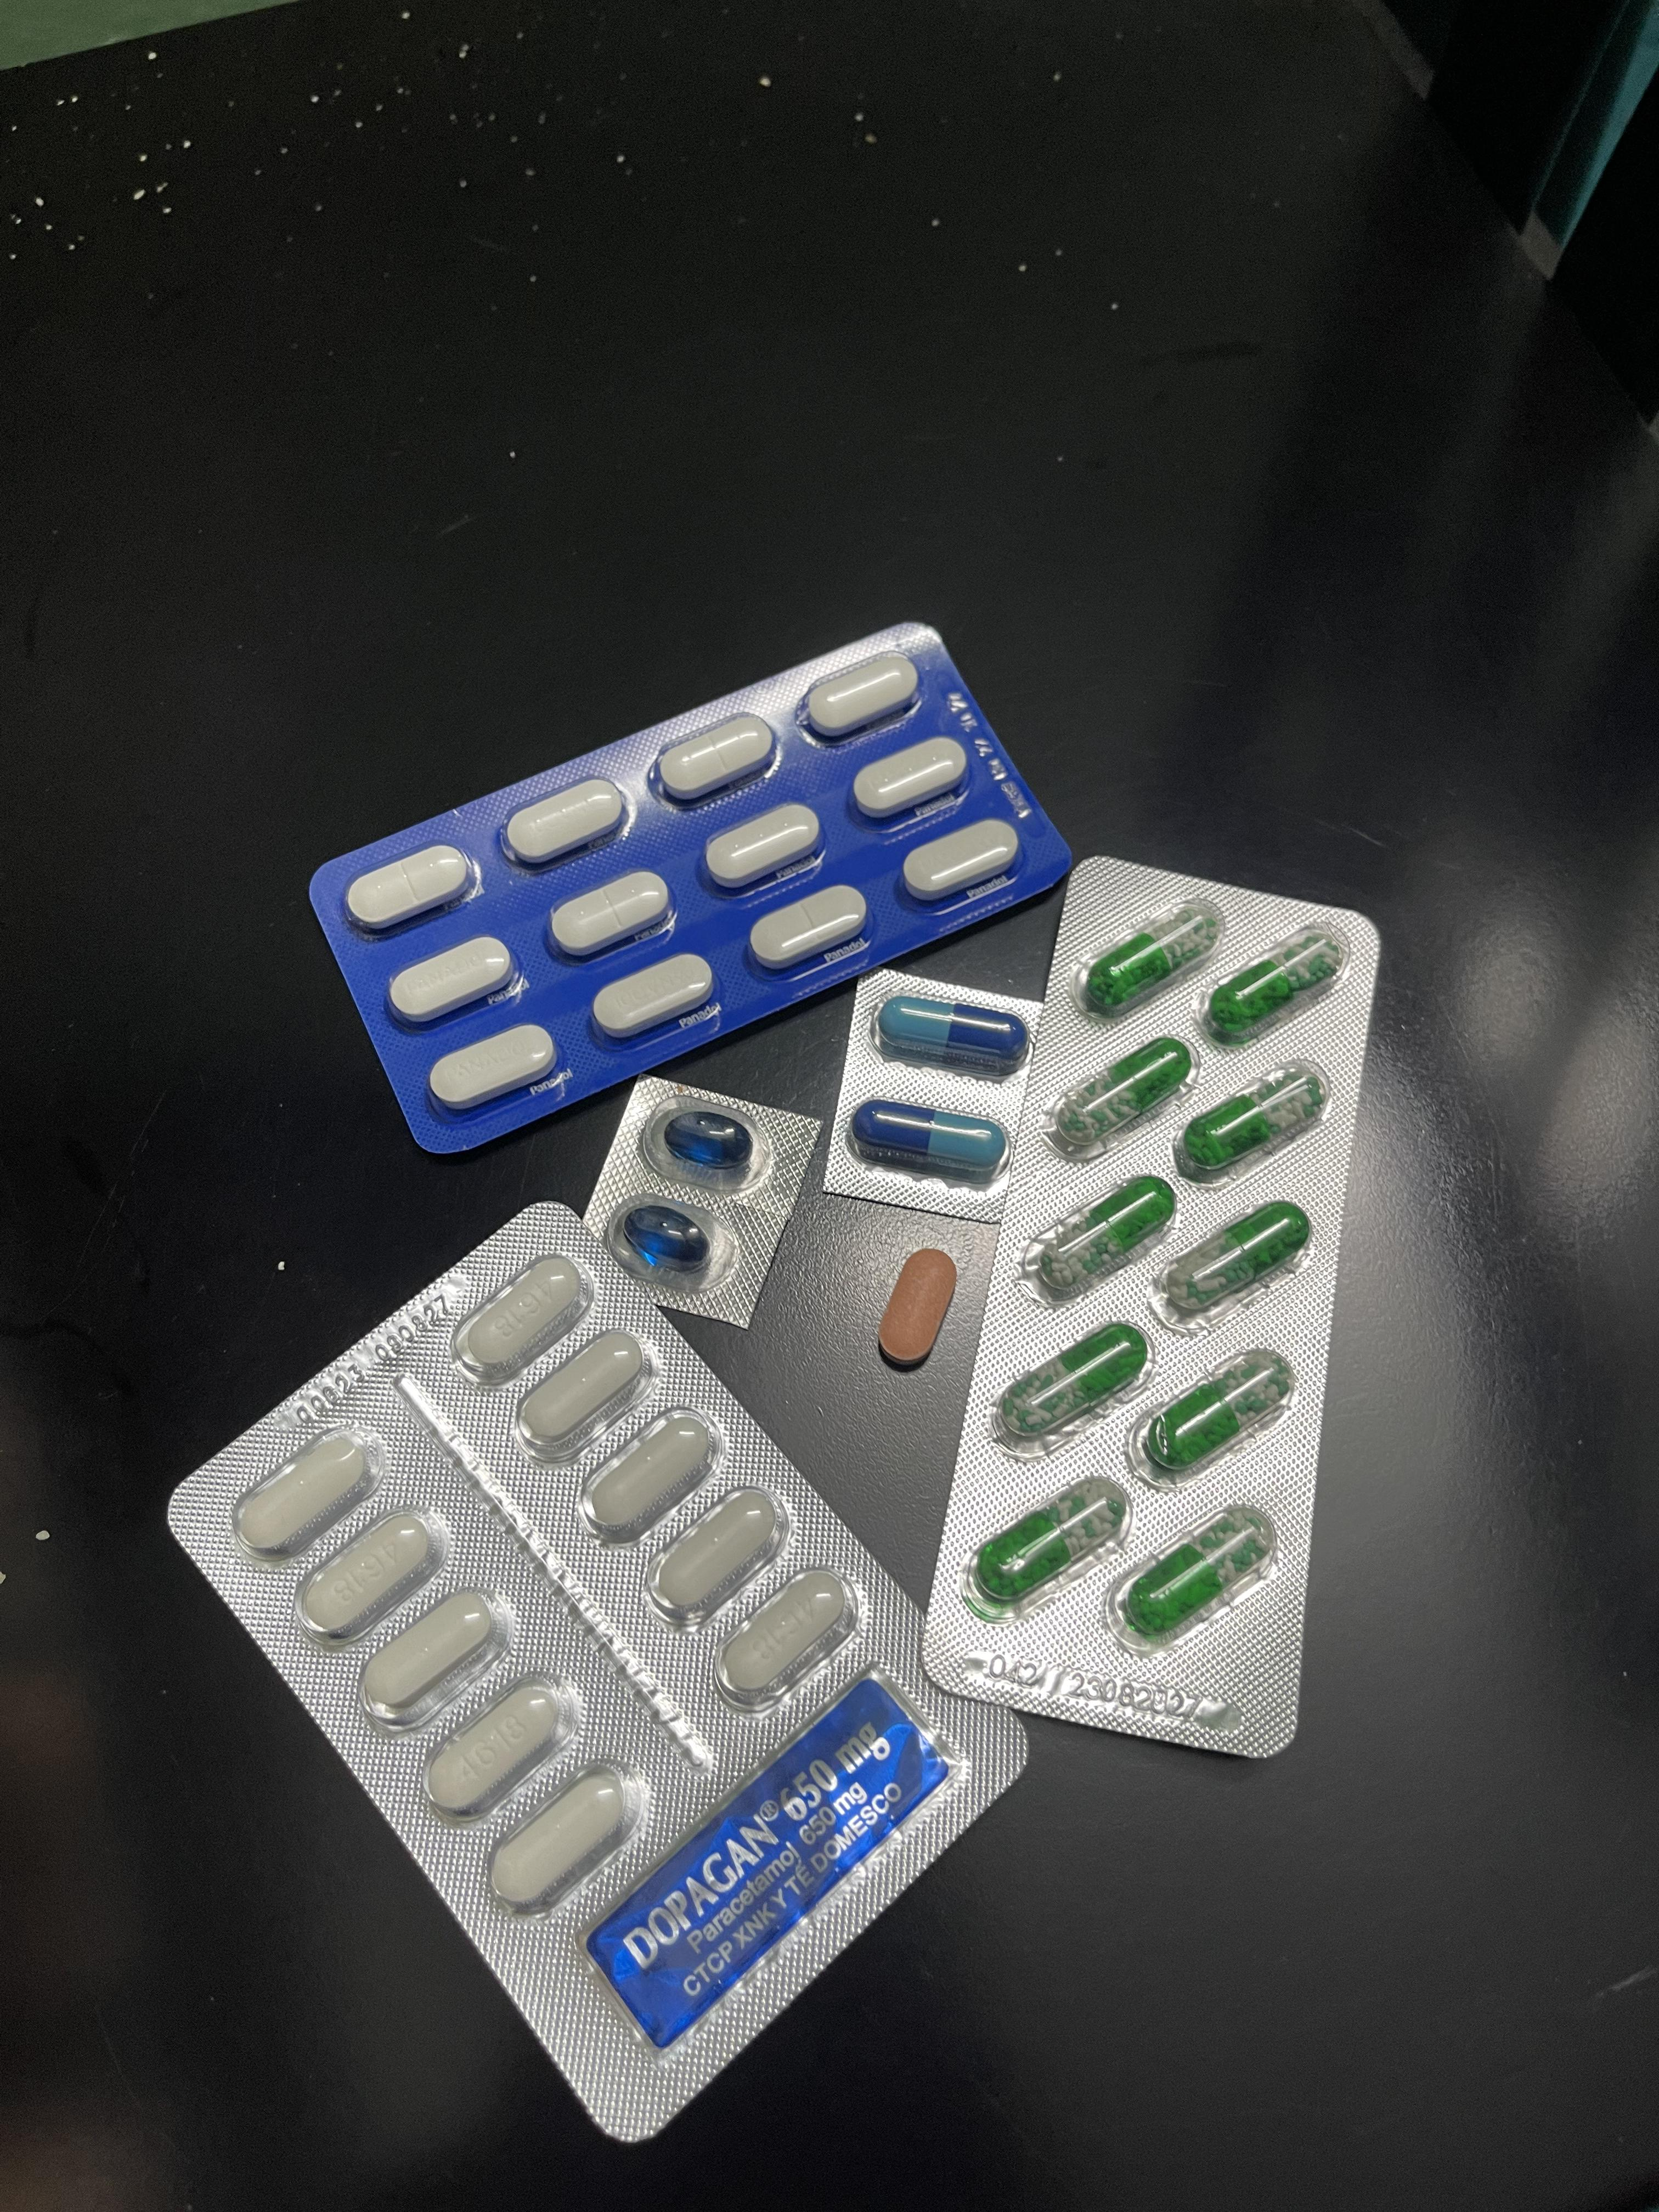Lincomyxin_500mg: (624, 1205, 711, 1271), (664, 1111, 753, 1170)
Loratadine_10mg: (877, 1247, 960, 1366)
Paracetamol_350mg: (389, 935, 518, 1026), (429, 1024, 559, 1113), (345, 845, 472, 932), (702, 803, 826, 892), (549, 871, 673, 958), (749, 885, 873, 972), (504, 780, 627, 867), (592, 954, 714, 1042), (655, 716, 775, 803), (903, 819, 1025, 904), (850, 735, 972, 820), (803, 653, 922, 738)
Paracetamol_500mg: (483, 1764, 638, 1918), (420, 1676, 577, 1818), (296, 1505, 448, 1651), (352, 1583, 505, 1728), (647, 1486, 791, 1630), (579, 1406, 727, 1547), (716, 1566, 856, 1710), (232, 1428, 378, 1562), (451, 1249, 591, 1381), (514, 1329, 652, 1461)
Paracetamol_650mg: (1133, 1350, 1295, 1484), (995, 1322, 1152, 1453), (1154, 1197, 1314, 1320), (1025, 1172, 1178, 1301), (1121, 1515, 1267, 1637), (1178, 1064, 1331, 1179), (979, 1482, 1122, 1601), (1073, 902, 1222, 1015), (1201, 927, 1345, 1040), (1056, 1035, 1194, 1141)
pill: (871, 993, 1030, 1080), (854, 1101, 1006, 1176)
